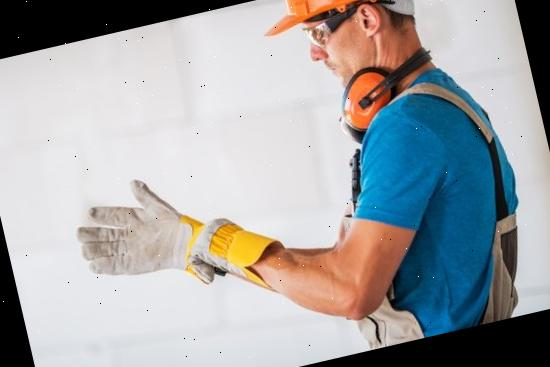helmet: (249, 0, 440, 45)
no_wear: (312, 57, 542, 350)
